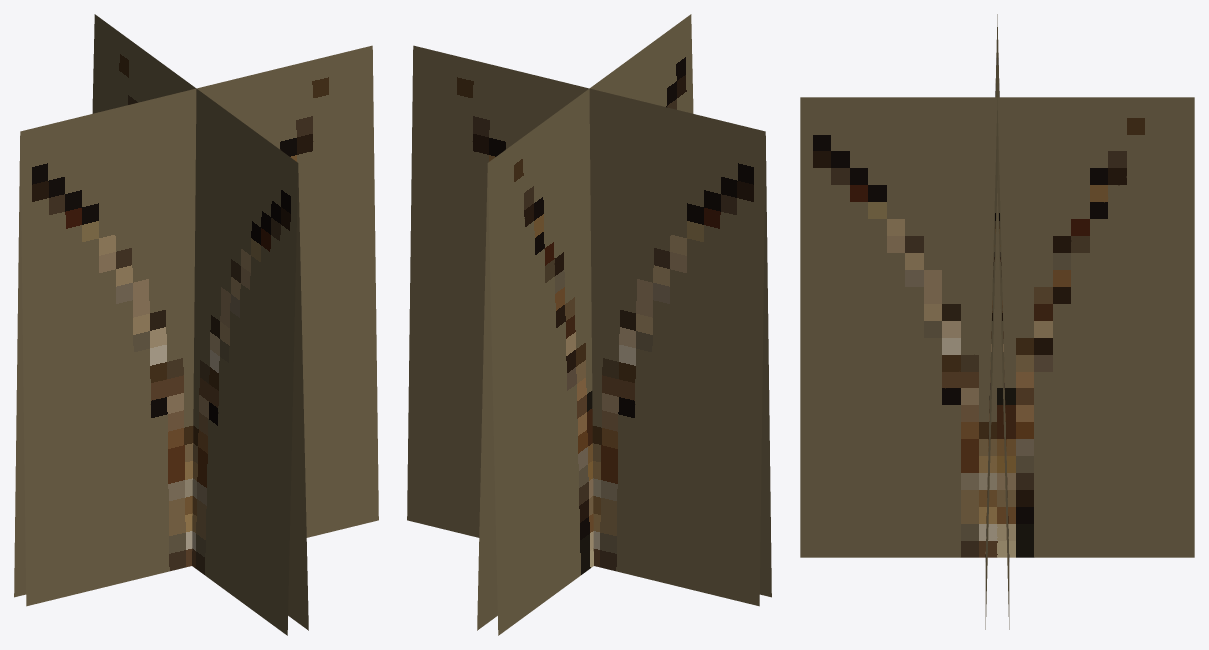
Rendered from grass03_fall.glb.
3 views of the same model, side by side, from view 1: azimuth 30°, elevation 25°; view 2: azimuth 150°, elevation 25°; view 3: azimuth 270°, elevation 25° (orthographic). The views are drawn at different scales.
Visible parts, largest first — view 1: grass03; view 2: grass03; view 3: grass03.
Part boxes in pixels (left/top/right/bottom): grass03: left=14, top=14, right=378, bottom=635; grass03: left=407, top=14, right=771, bottom=635; grass03: left=800, top=14, right=1194, bottom=629.
Bounding box in the file's own units: 0.2667 × 0.34 × 0.2667.
Materials: 1 (1 with a texture image).
